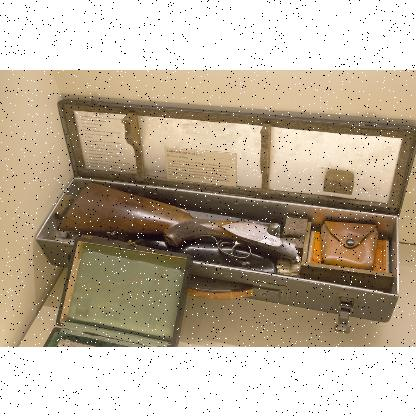gun: (55, 182, 299, 258)
